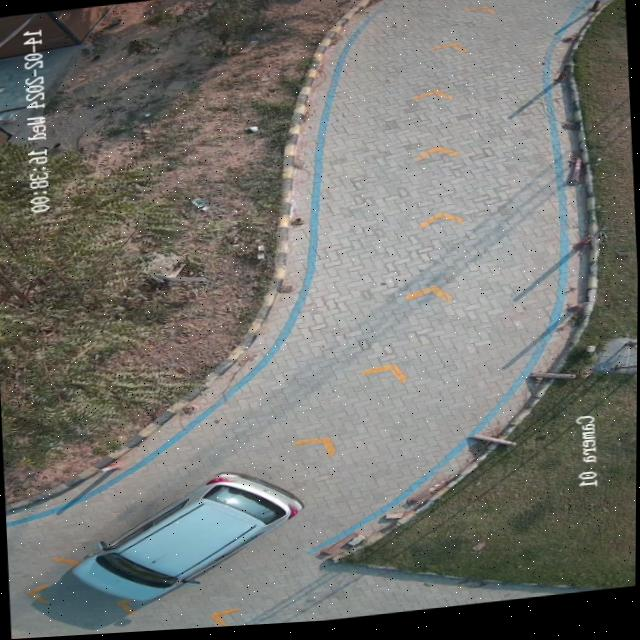car: (74, 472, 307, 604)
